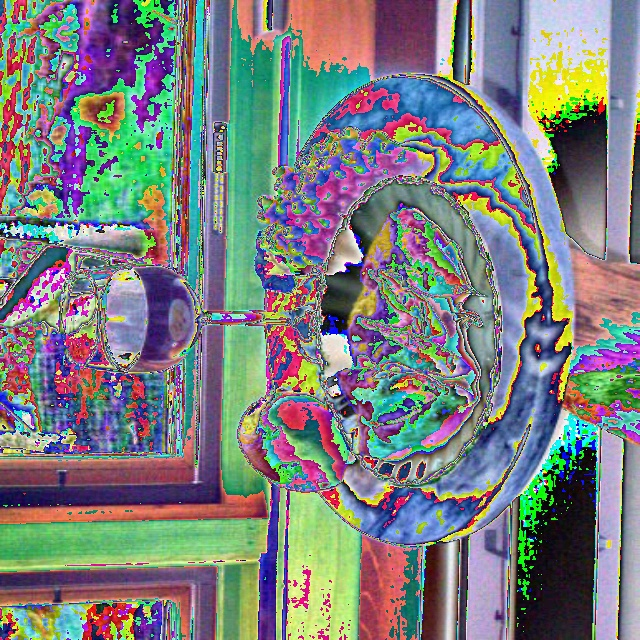background: (112, 105, 348, 492), (138, 209, 472, 459), (162, 127, 413, 294), (100, 110, 200, 373)
